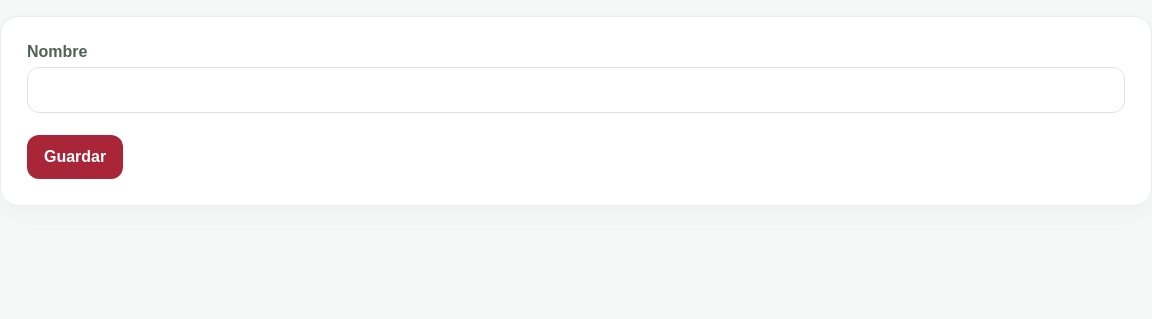
Scenario: formularios y acciones compartidos › conserva los valores y permite reintentar al fallar
Step 1. Type "Lizeth" into the field labelled "Nombre" → [576, 90], box [27,67,1125,113]
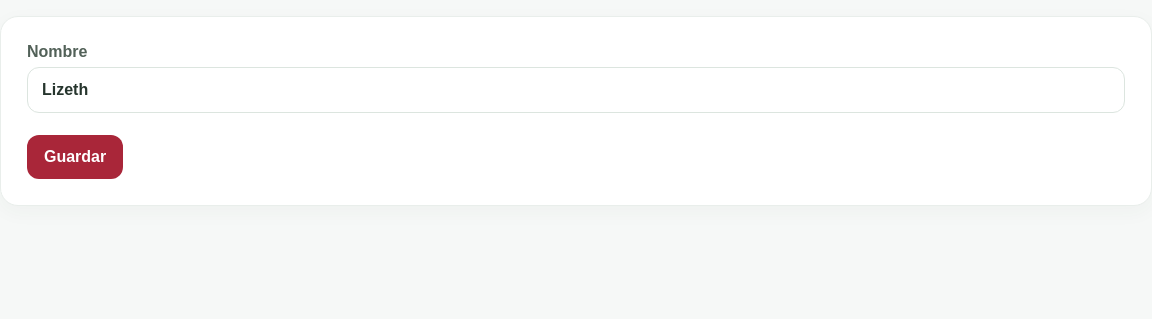
Step 2. Click the button "Guardar" → [75, 157], box [27,135,123,179]
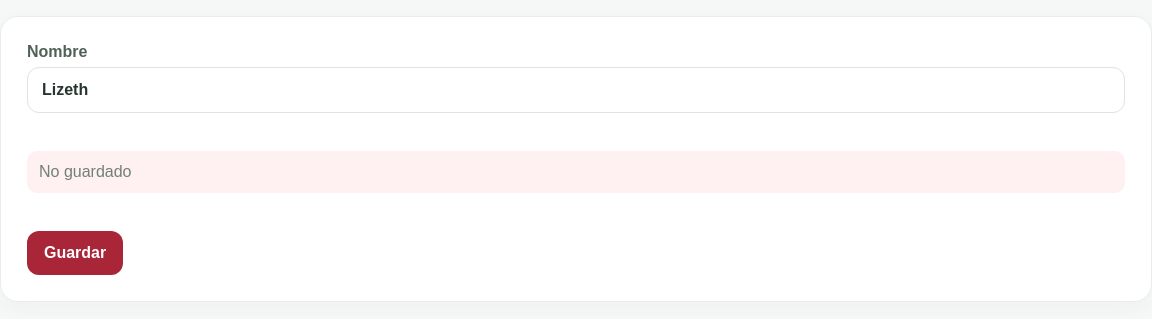
Expected: the message reads "No guardado", [39,163,132,180]
Step 3. Click the button "Guardar" → [75, 253], box [27,231,123,275]
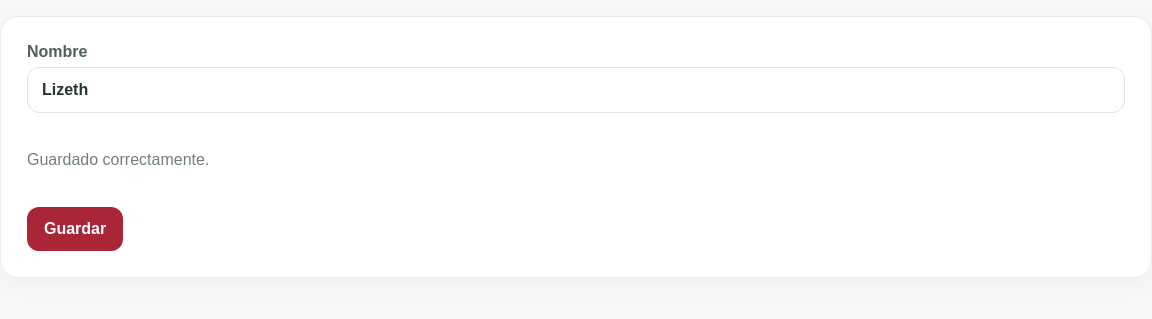
Expected: the message reads "Guardado correctamente.", [27,151,209,168]
